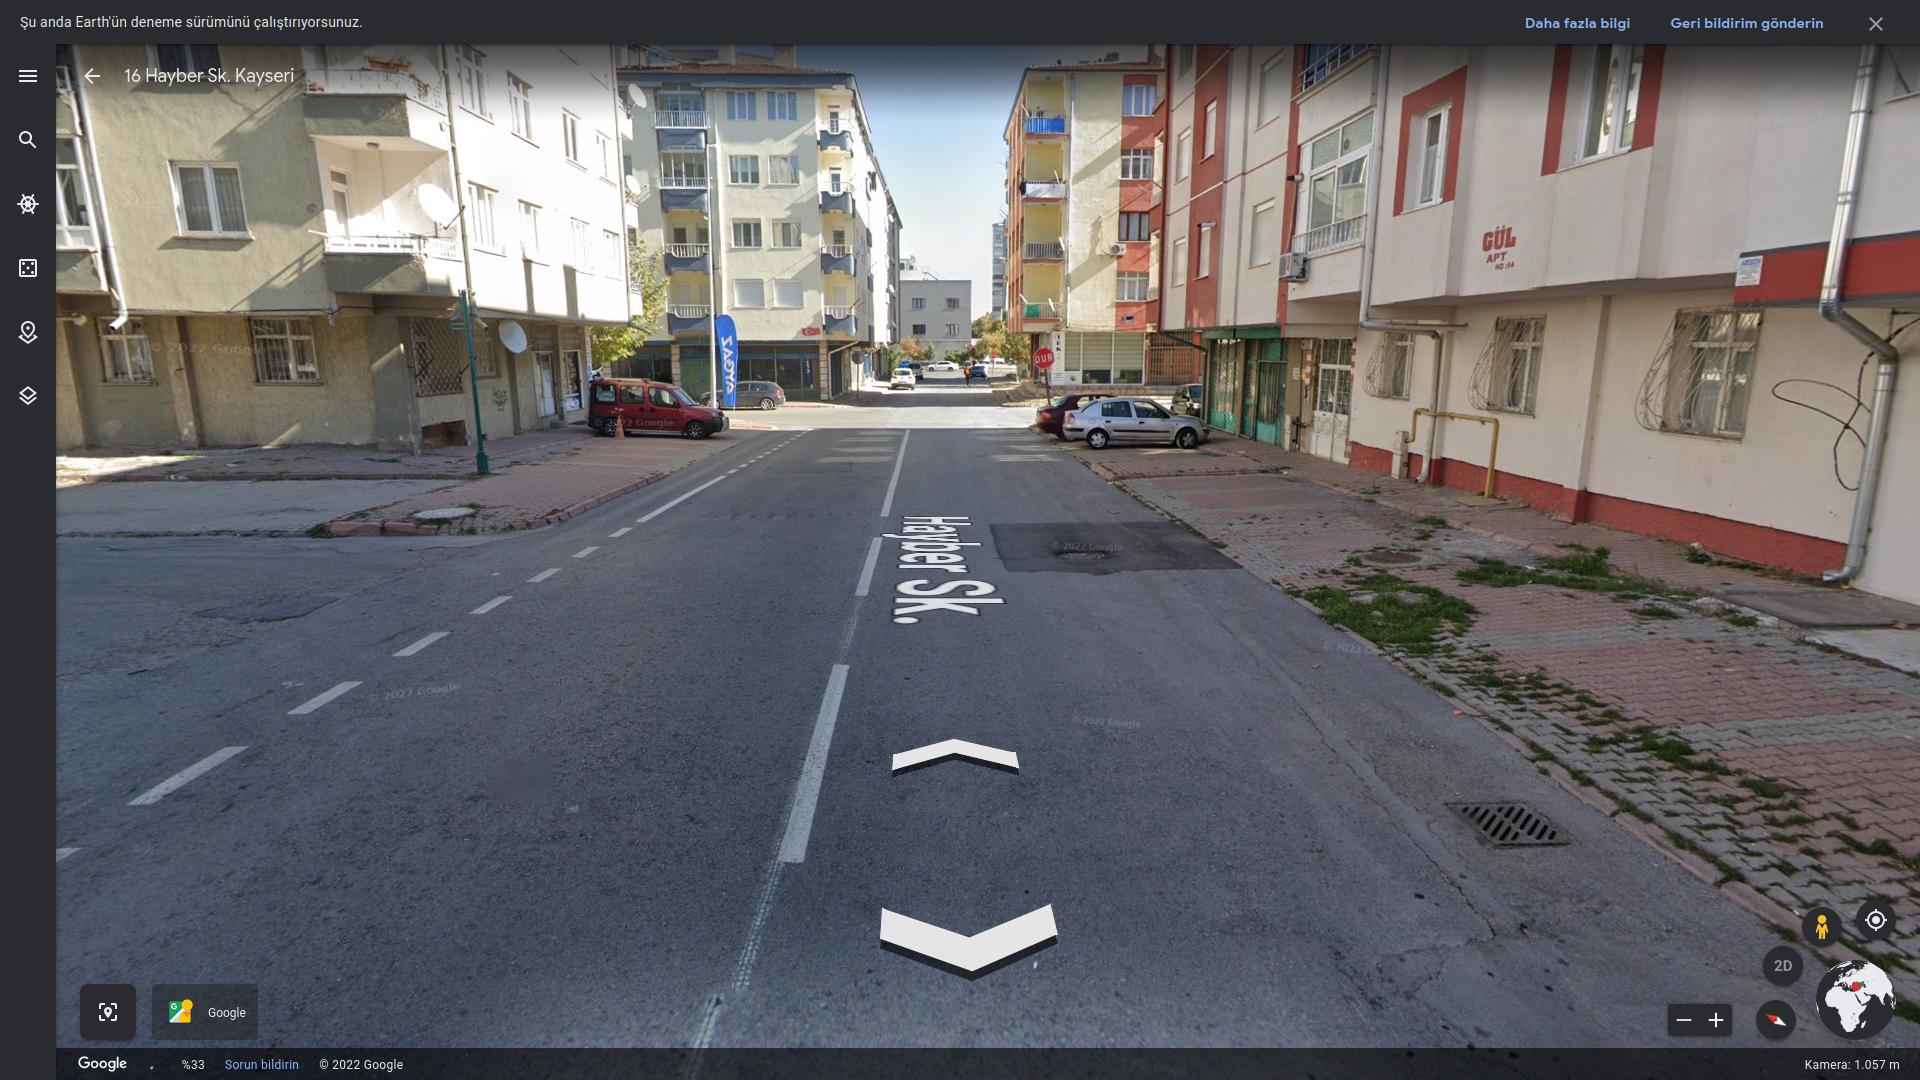stop: (1034, 348, 1056, 369)
